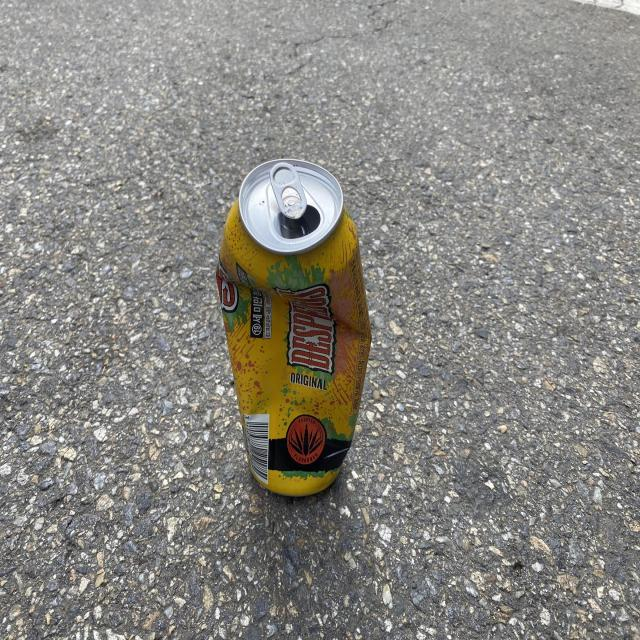can: (216, 158, 371, 496)
